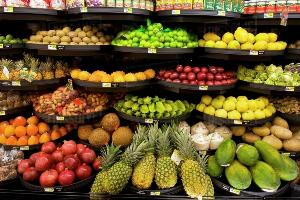apple: (194, 89, 270, 125), (153, 60, 234, 92)
kiwi: (34, 13, 120, 49)
lemon: (202, 26, 292, 52)
lime: (117, 24, 199, 52)
persimmon: (0, 116, 66, 144)
pineapple: (99, 134, 203, 198), (0, 55, 64, 93)
pomegranate: (22, 136, 100, 190)
